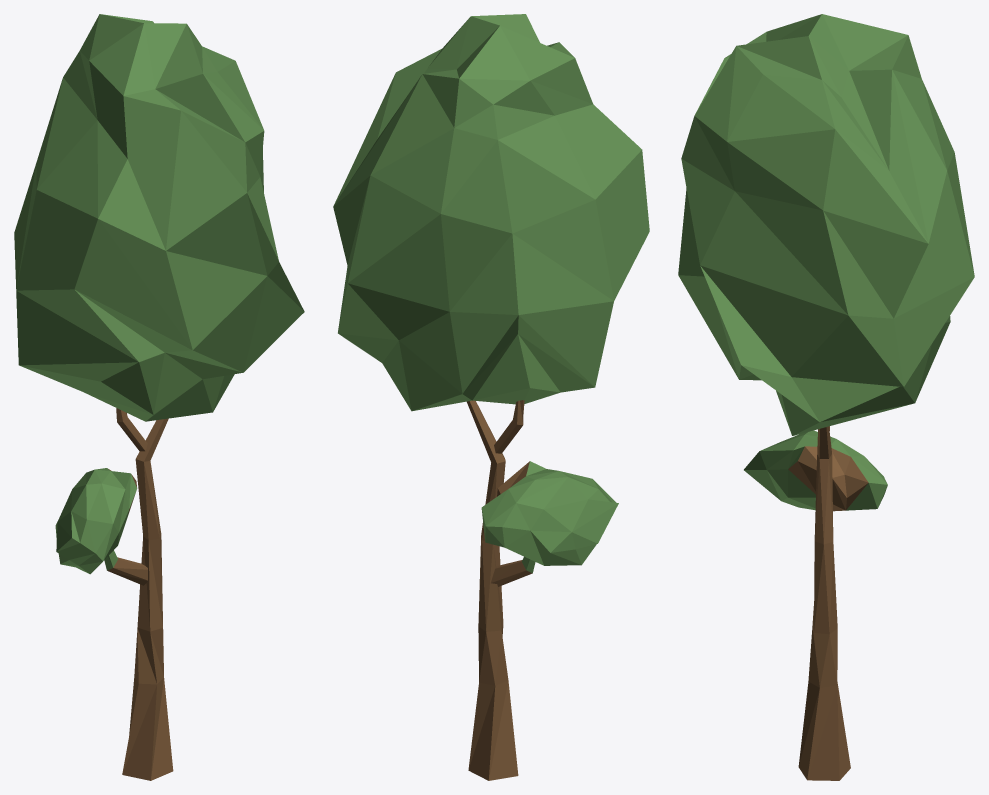
File: tree3d-149.glb
3 views of the same model, side by side, from view 1: azimuth 30°, elevation 25°; view 2: azimuth 150°, elevation 25°; view 3: azimuth 270°, elevation 25° (orthographic).
Visible parts, largest first — view 1: tree3d-149; view 2: tree3d-149; view 3: tree3d-149.
Part boxes in pixels (<box>): tree3d-149: <box>14,14,304,780</box>; tree3d-149: <box>333,14,649,780</box>; tree3d-149: <box>678,14,974,780</box>.
Size of the model in its own units: 0.3564 by 1 by 0.3558.
